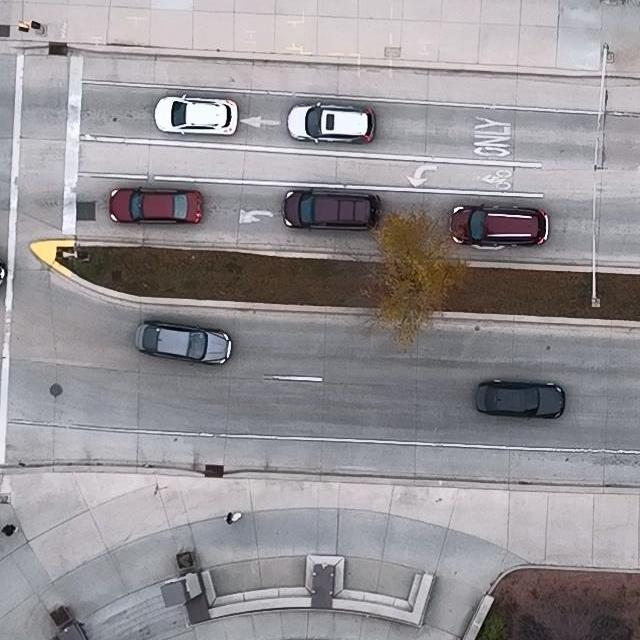car: (448, 203, 551, 248), (135, 318, 233, 365), (282, 189, 381, 233), (287, 102, 376, 146), (109, 185, 204, 224), (154, 94, 240, 137), (475, 380, 566, 419)
